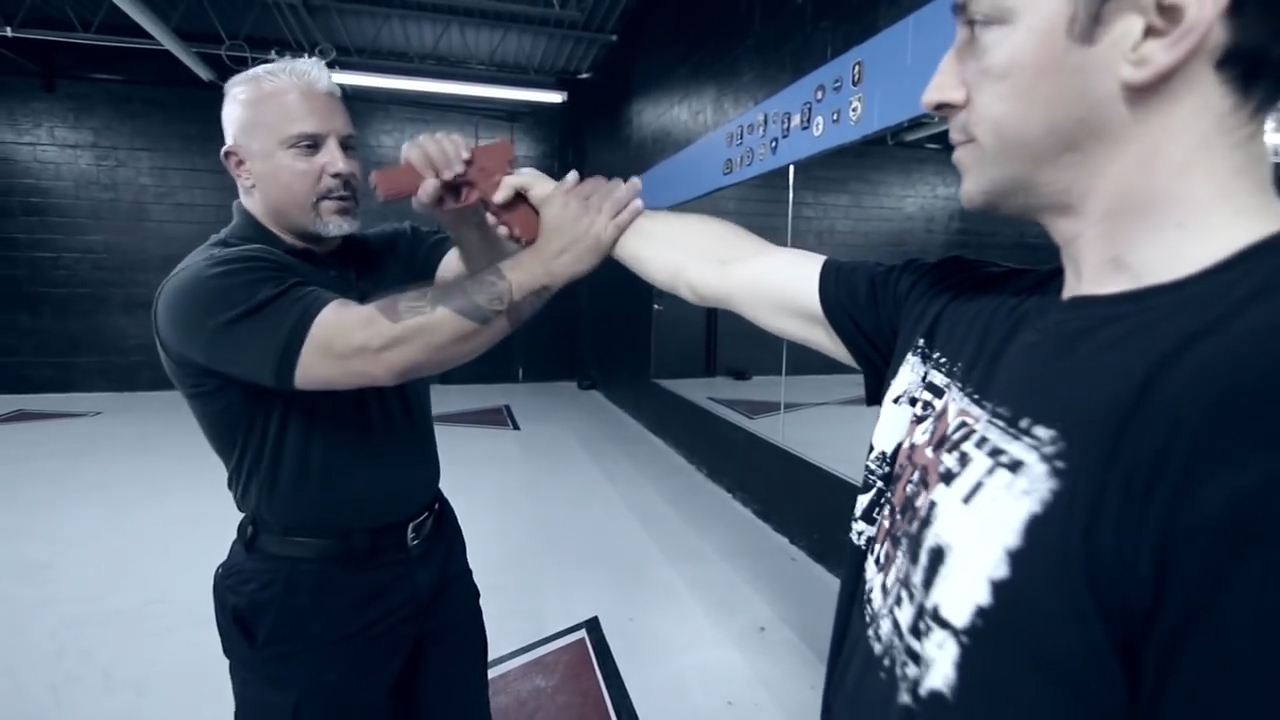pistol: (366, 135, 542, 247)
